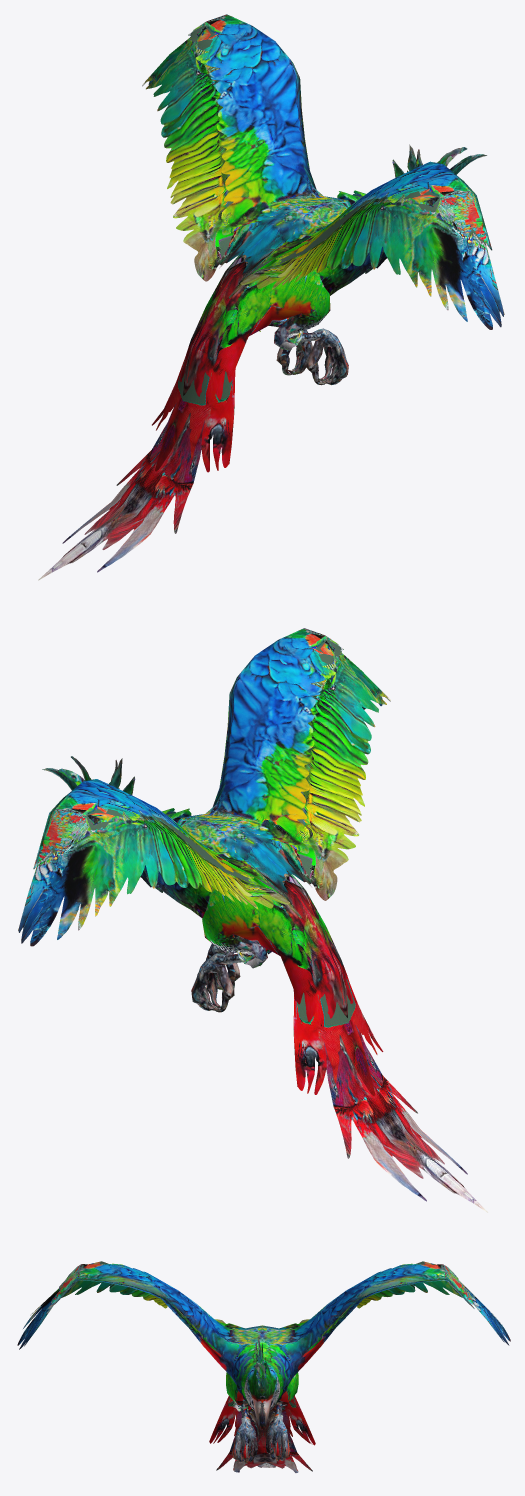
The model's file is parrot.glb.
3 renders of one model, top to bottom at view 1: azimuth 30°, elevation 25°; view 2: azimuth 150°, elevation 25°; view 3: azimuth 270°, elevation 25°, orthographic. The views are drawn at different scales.
Parts seen in each view (by area): view 1: U3DMeshShape_0; view 2: U3DMeshShape_0; view 3: U3DMeshShape_0.
Boxes of the visible parts, left/top/right/bottom form: U3DMeshShape_0: left=38, top=14, right=504, bottom=580; U3DMeshShape_0: left=18, top=628, right=487, bottom=1212; U3DMeshShape_0: left=17, top=1261, right=510, bottom=1472.
Size of the model in its own units: 5.49 by 4.71 by 6.62.
1 material, 1 textured.
